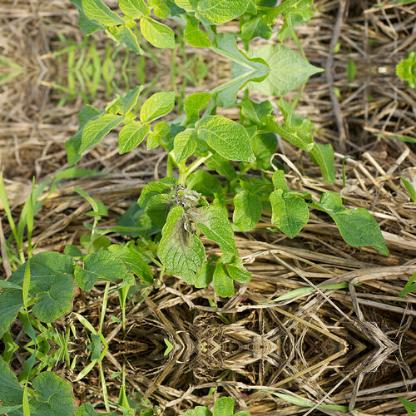Late-Blight: (145, 188, 247, 296)
